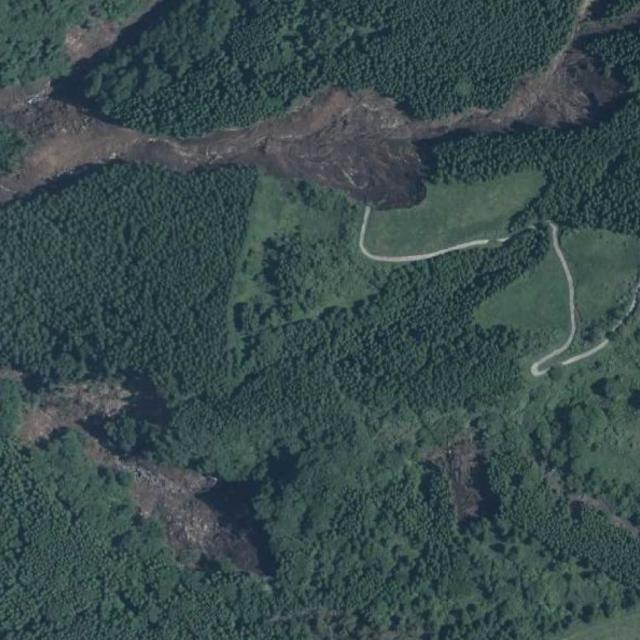landslide: (0, 27, 622, 208), (20, 376, 263, 573)
